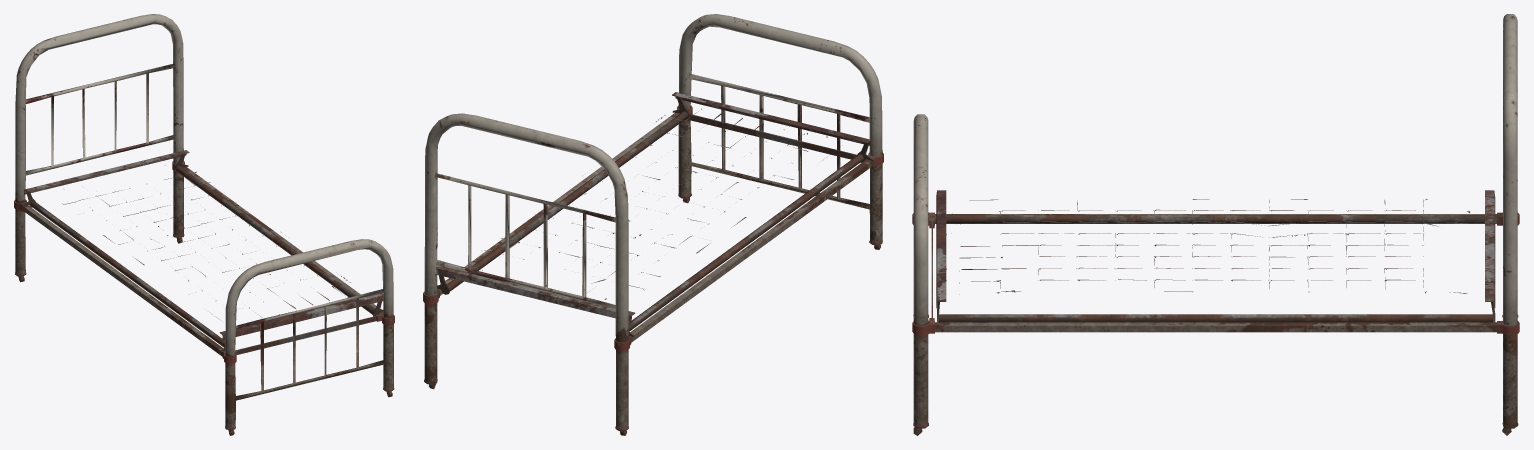
File: ph_old_bed_frame.glb
3 renders of one model, left to right at view 1: azimuth 30°, elevation 25°; view 2: azimuth 150°, elevation 25°; view 3: azimuth 270°, elevation 25°, orthographic. The views are drawn at different scales.
Visible parts, largest first — view 1: old_bed_frame; view 2: old_bed_frame; view 3: old_bed_frame.
Boxes of the visible parts, x1=… form: old_bed_frame: x1=14, y1=14, x2=394, y2=435; old_bed_frame: x1=423, y1=14, x2=883, y2=435; old_bed_frame: x1=912, y1=14, x2=1519, y2=435.
Size of the model in its own units: 0.9047 by 1.2 by 2.
1 material, 1 textured.
